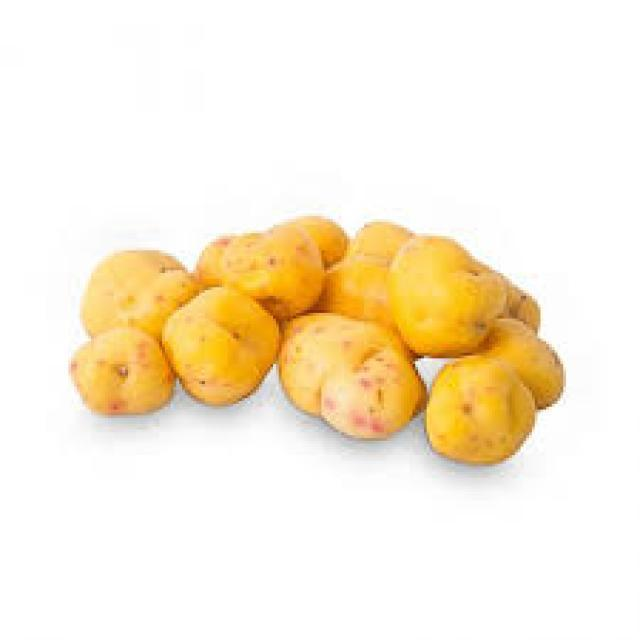Potato: (276, 312, 427, 442), (192, 216, 351, 329), (385, 237, 523, 360), (160, 286, 282, 409), (424, 351, 540, 468), (69, 326, 177, 419)
